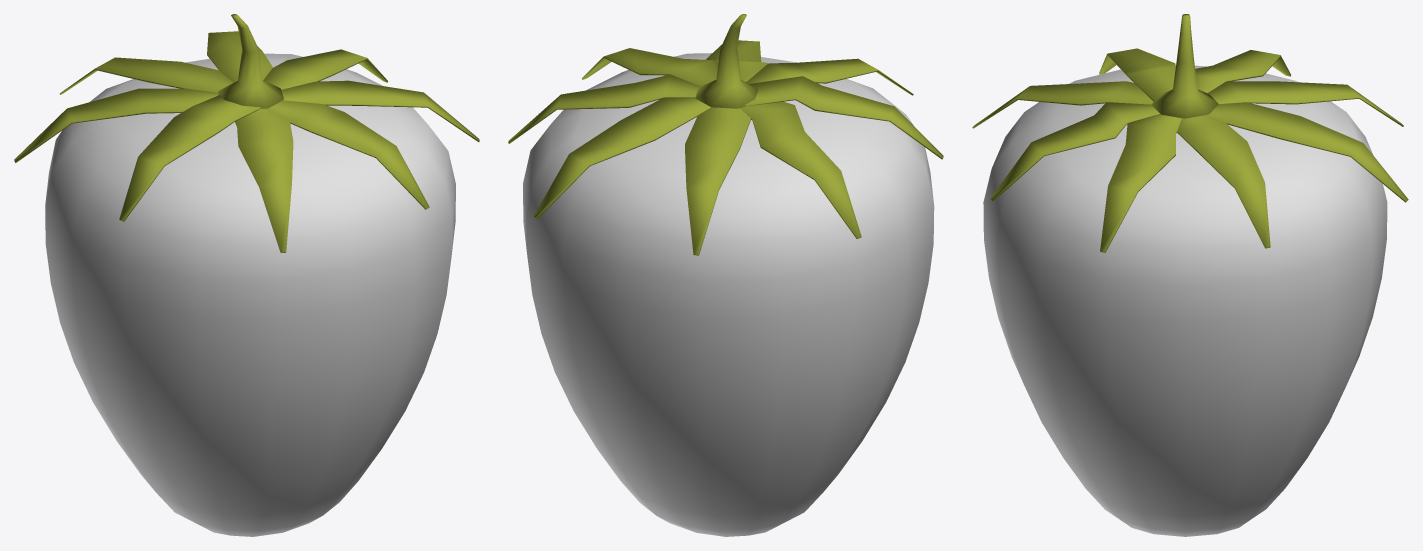
File: Strawberry.fbx
3 views of the same model, side by side, from view 1: azimuth 30°, elevation 25°; view 2: azimuth 150°, elevation 25°; view 3: azimuth 270°, elevation 25° (orthographic). The views are drawn at different scales.
Parts seen in each view (by area): view 1: Cube.018; view 2: Cube.018; view 3: Cube.018.
Part boxes in pixels (box(x1,y1,x2,y2)): Cube.018: box(14, 14, 479, 536); Cube.018: box(508, 14, 943, 536); Cube.018: box(972, 14, 1408, 536).
Size of the model in its own units: 20.04 by 26.17 by 20.75.
